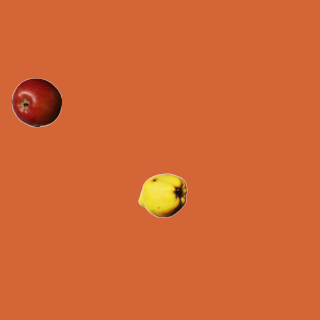Apple Braeburn: (11, 77, 61, 127)
Quince: (137, 170, 187, 220)
